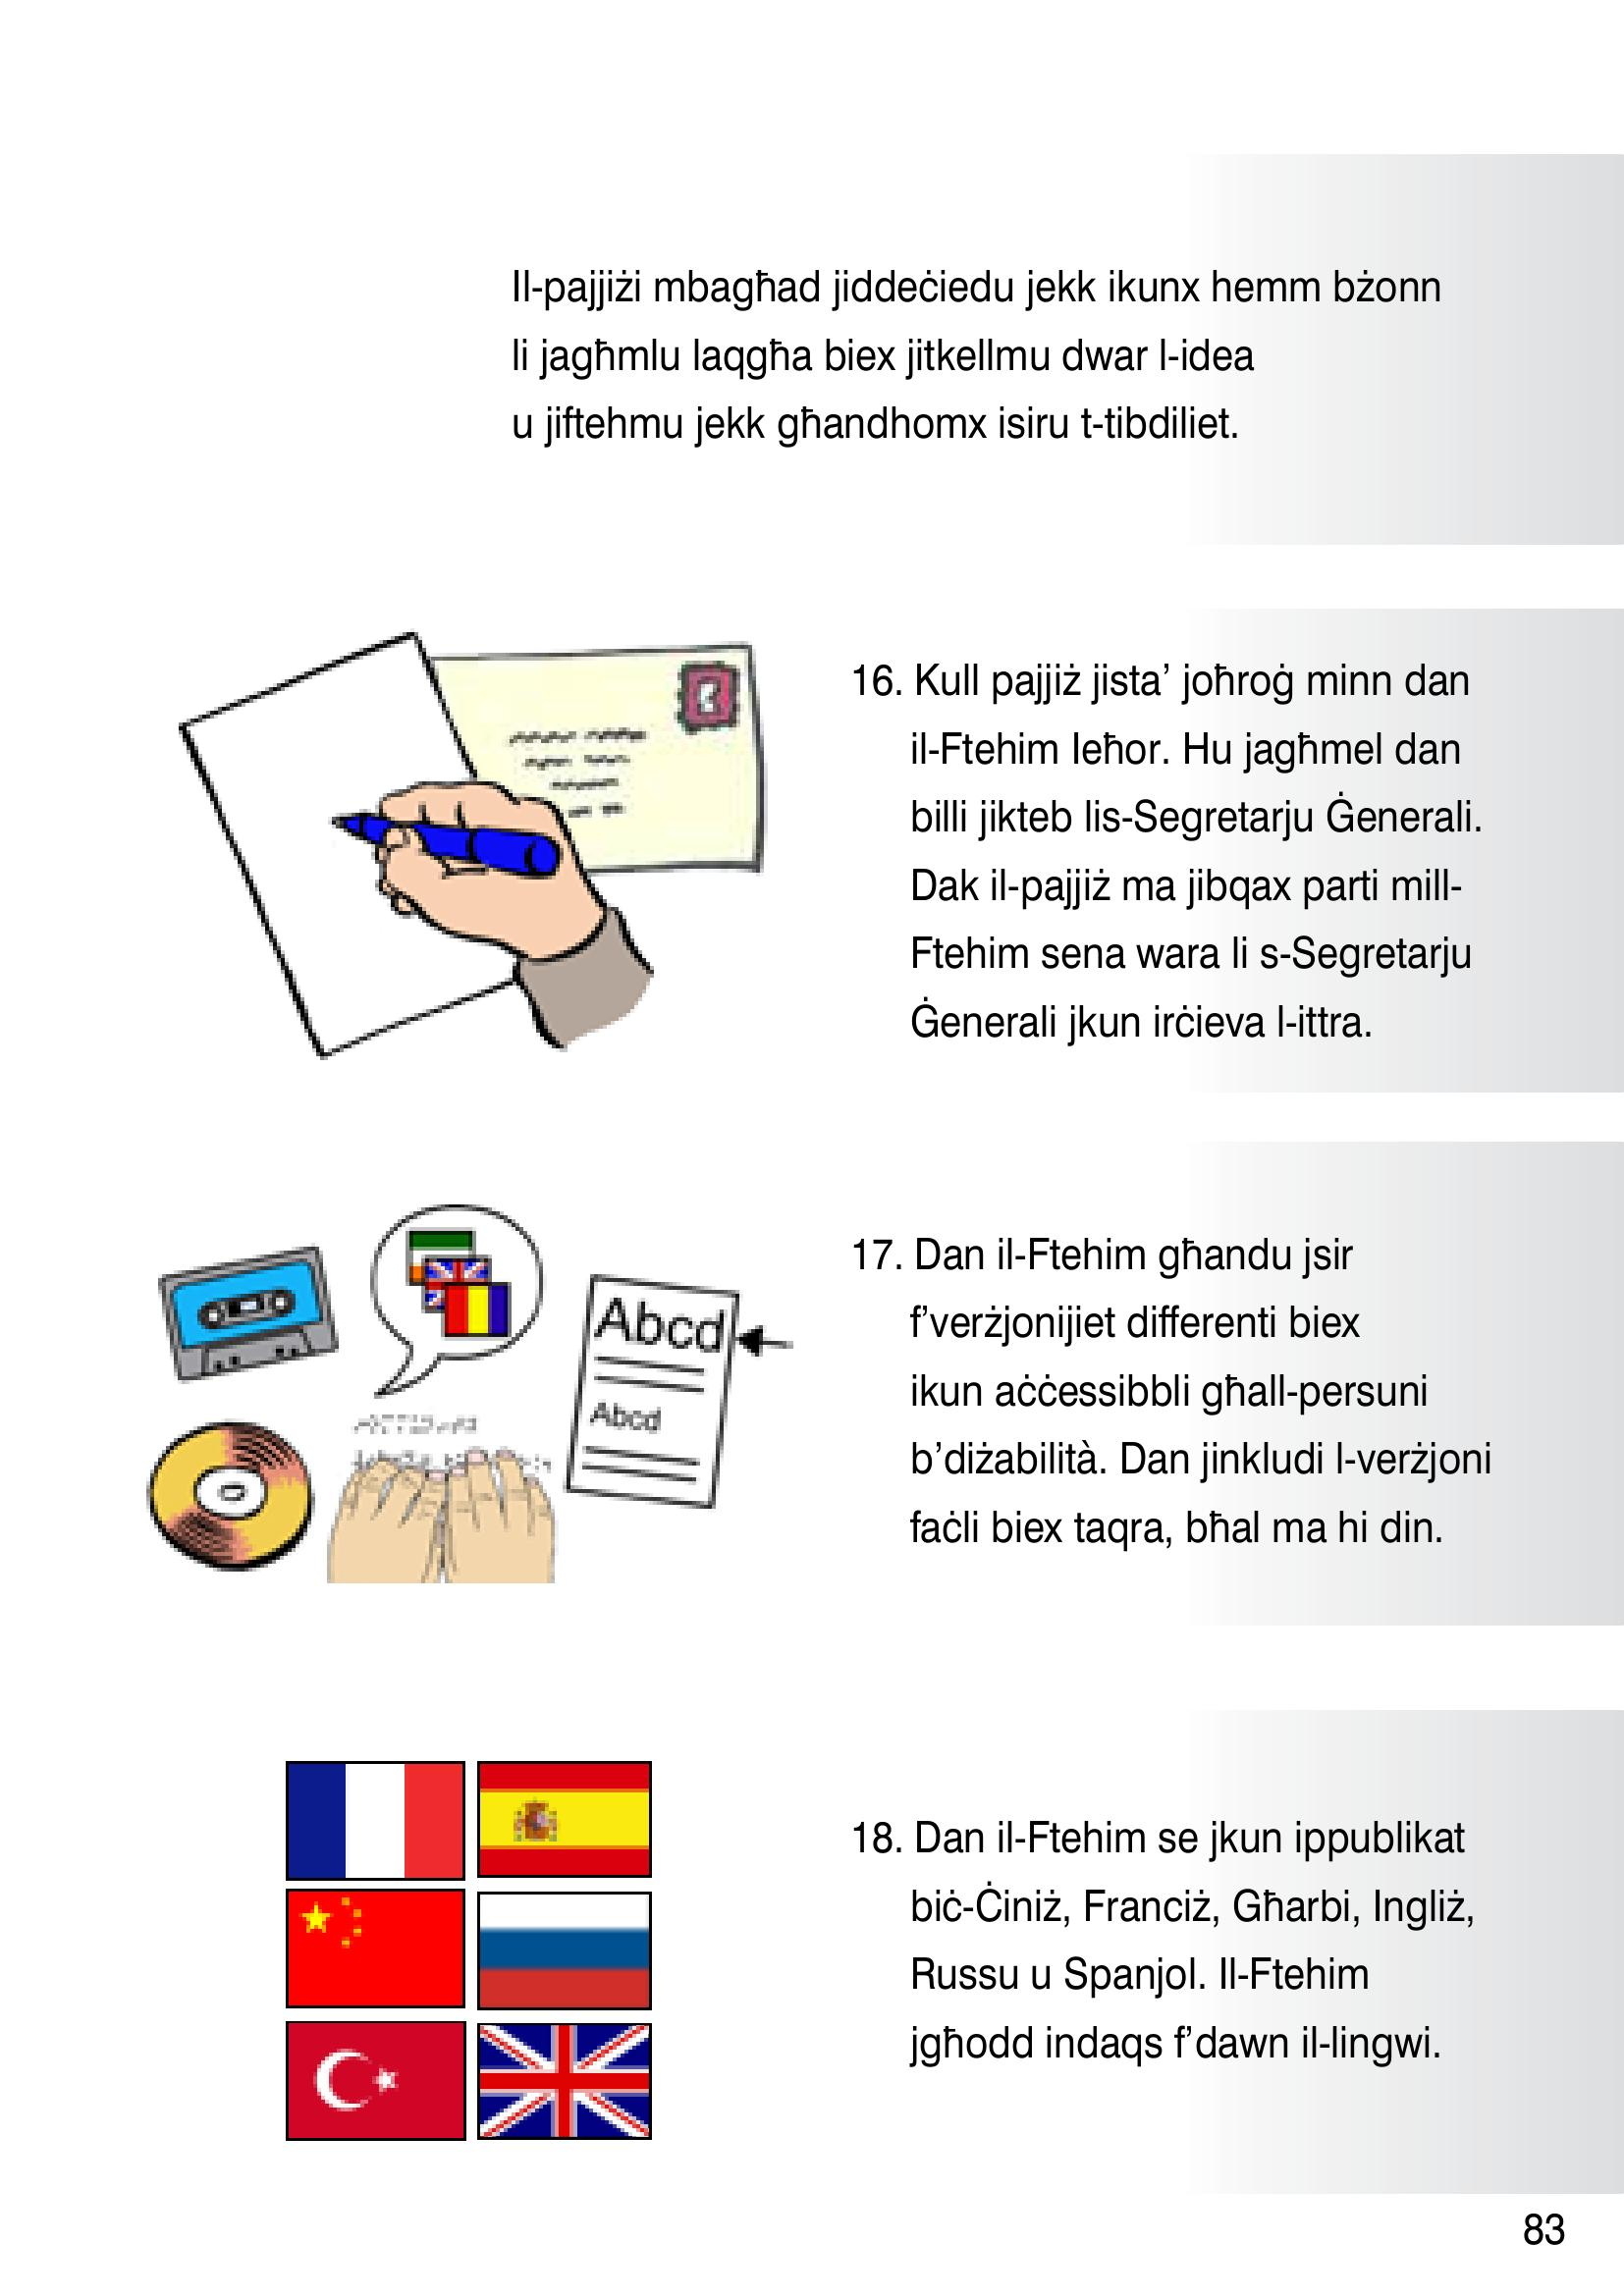text: (828, 618, 1515, 2117), (464, 237, 1496, 497)
